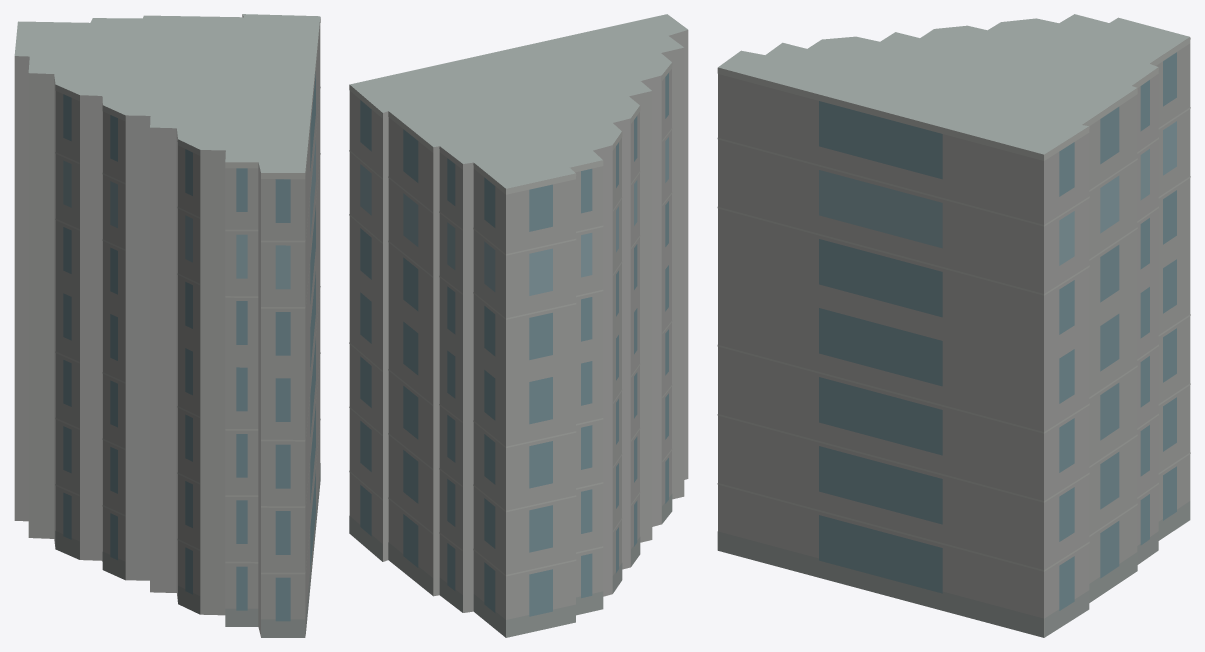
File: survey-upis-33002096.glb
3 views of the same model, side by side, from view 1: azimuth 30°, elevation 25°; view 2: azimuth 150°, elevation 25°; view 3: azimuth 270°, elevation 25° (orthographic). The views are drawn at different scales.
Visible parts, largest first — view 1: survey-upis-33002096.tmp; view 2: survey-upis-33002096.tmp; view 3: survey-upis-33002096.tmp.
Boxes of the visible parts, <box> form: survey-upis-33002096.tmp: <box>14,14,320,637</box>; survey-upis-33002096.tmp: <box>349,14,688,637</box>; survey-upis-33002096.tmp: <box>717,14,1190,637</box>.
Bounding box in the file's own units: 11.47 × 18.35 × 16.28.
